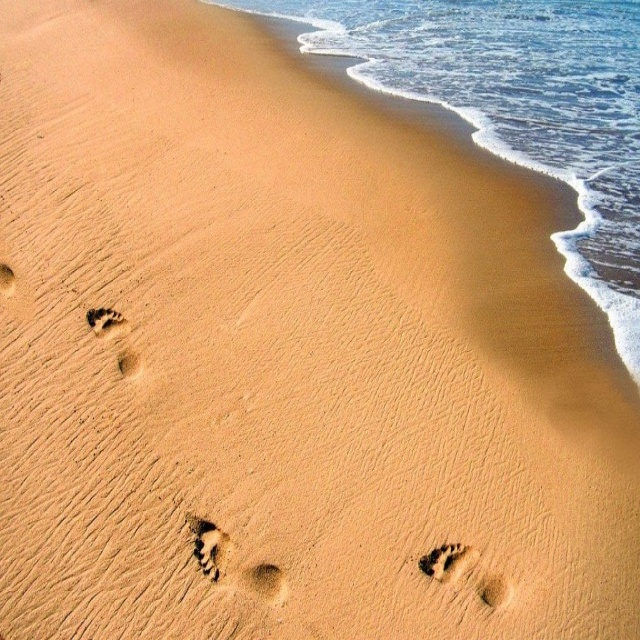linhaEspraiamento: (156, 2, 640, 378)
